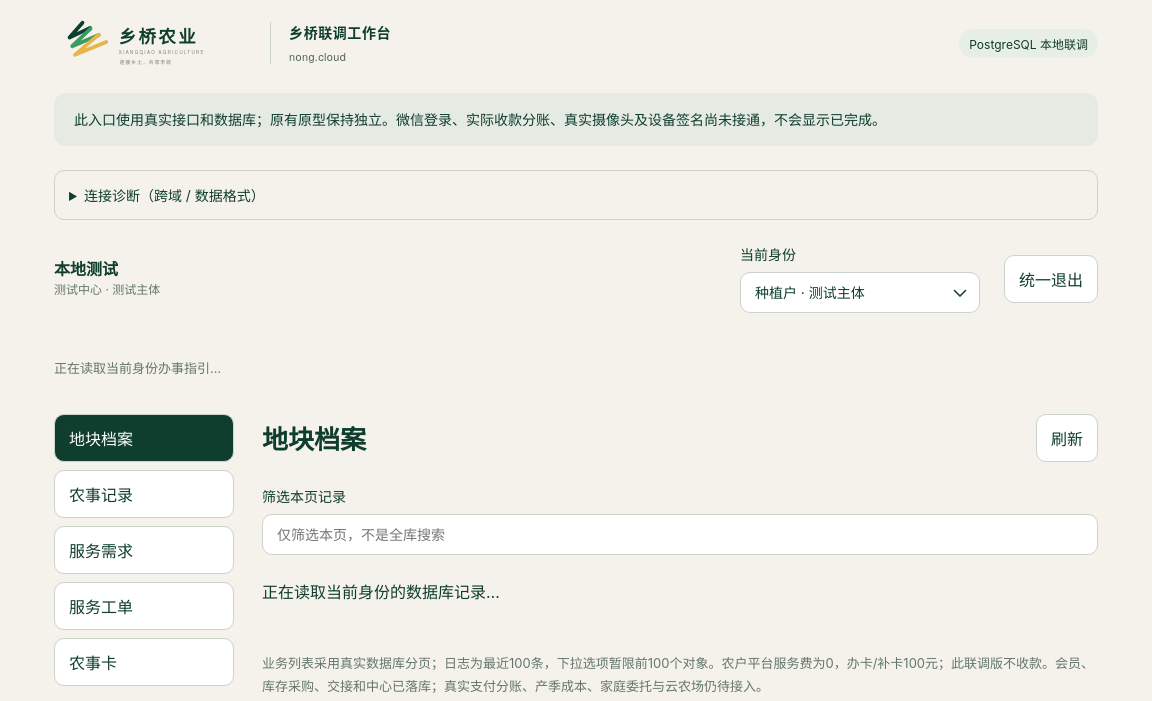
a service role cannot see a state-only start button without server action permission
The width and height of the screenshot is (1152, 701).
Expected: the heading "地块档案" is shown, [262, 419, 366, 456]
Click the button "服务工单": (144, 606) [54, 582, 234, 630]
(page scrolled)
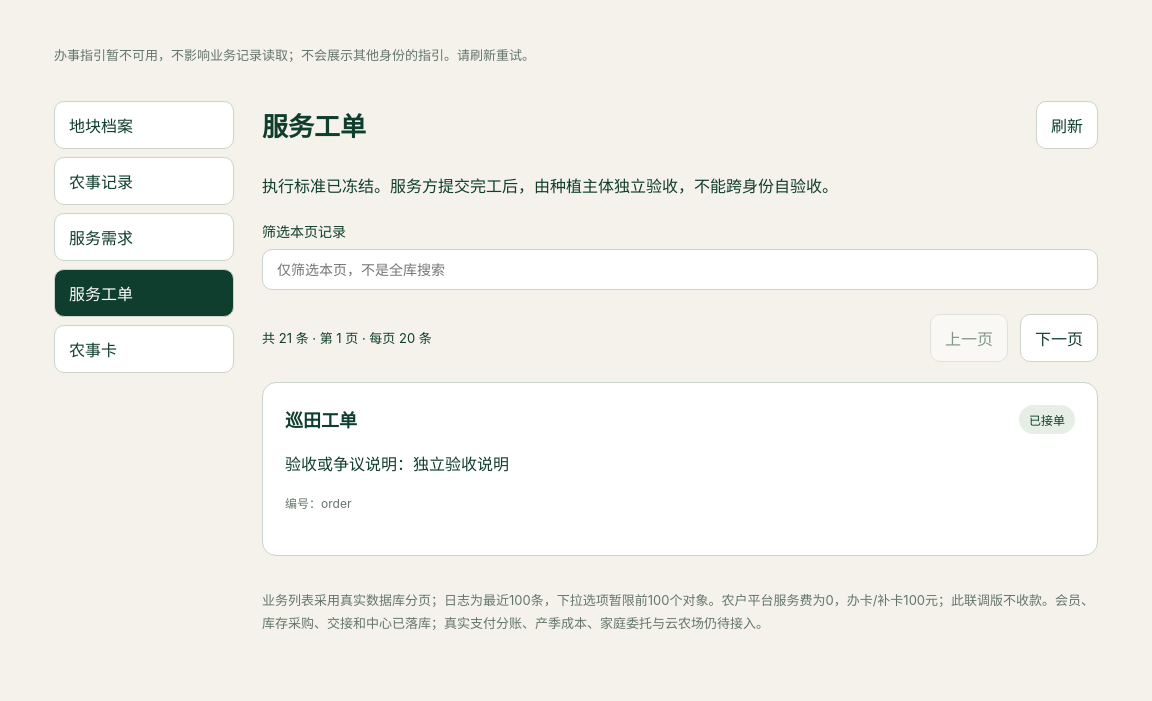
Result: the text "验收或争议说明：独立验收说明" is shown at [285, 454, 509, 474]
